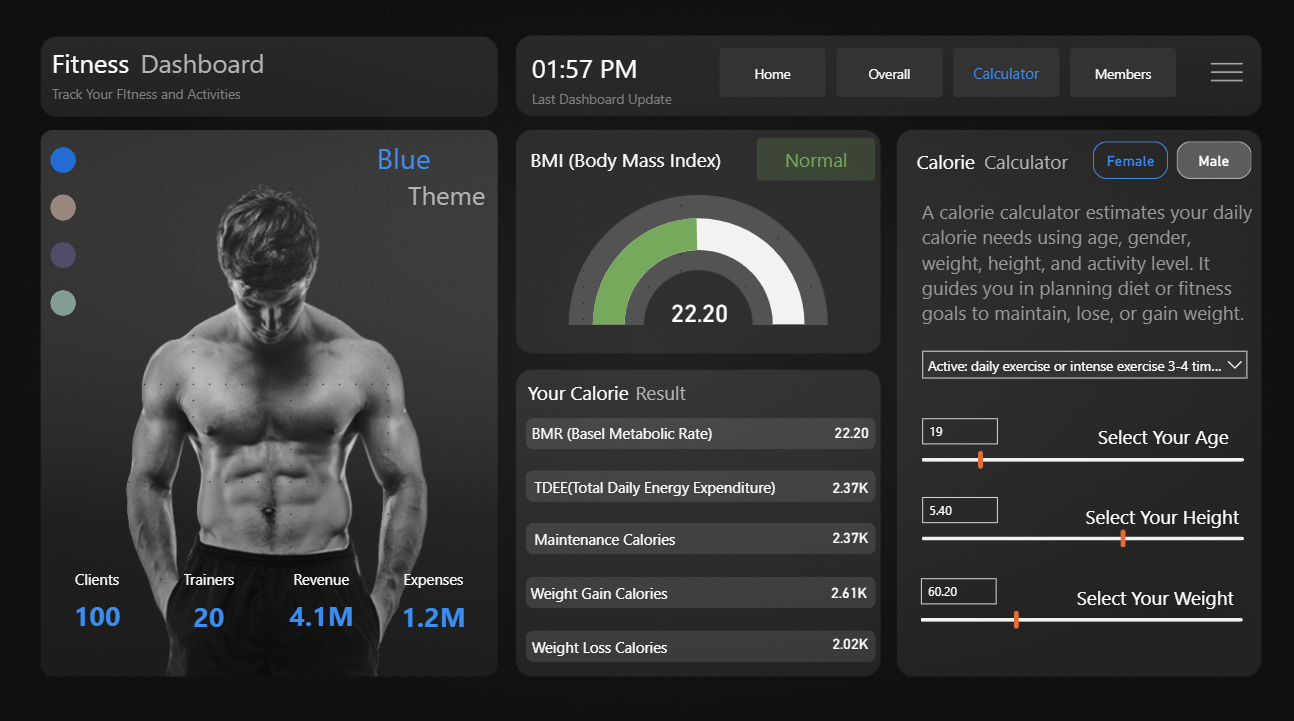

The dashboard page shown, as its layout file describes it:
{"tool":"powerbi","page":{"name":"Calculator","canvas":[1280,720],"ordinal":2},"visuals":[{"type":"slicer","fields":{"Values":["Age_Slider.Age_Slider"]},"box":[897.4,407.8,342.6,77.2],"z":0},{"type":"slicer","fields":{"Values":["Height_Slider.Height_Slider"]},"box":[897.4,485.2,342.6,79.6],"z":1000},{"type":"slicer","fields":{"Values":["Weight_Slider.Weight_Slider"]},"box":[896.2,564.6,342.6,77.2],"z":2000},{"type":"advancedSlicerVisual","fields":{"Values":["Gender_Slider.Category"]},"box":[1073.5,140,166,47.1],"z":3000},{"type":"slicer","fields":{"Values":["Slider_Activity.Category"]},"box":[899.8,341.4,340.2,67.6],"z":4000},{"type":"shape","box":[53.1,48.3,86.9,38.6],"z":5000},{"type":"shape","box":[139.9,48.3,135.1,38.6],"z":6000},{"type":"shape","box":[904.6,145,66.4,38.6],"z":7000},{"type":"shape","box":[971.2,144.8,135.1,38.6],"z":8000},{"type":"textbox","box":[904.6,196.7,337.8,135.1],"z":9000},{"type":"gauge","fields":{"Y":["_Measures.BMI"]},"box":[581.5,179.8,218.4,187],"z":10000},{"type":"shape","box":[1083.2,416.4,142.4,38.6],"z":11000},{"type":"shape","box":[1071.1,494.8,154.4,38.6],"z":12000},{"type":"shape","box":[1062.7,574.5,160.5,38.6],"z":13000},{"type":"card","fields":{"Values":["_Measures.BMI"]},"box":[652.7,288.3,77.2,51.9],"z":14000},{"type":"shape","box":[524.8,142.4,205.1,38.6],"z":15000},{"type":"shape","box":[746.8,141.2,117,42.2],"z":16000},{"type":"shape","box":[526,412.6,234,38.6],"z":17000},{"type":"card","fields":{"Values":["_Measures.BMI"]},"box":[813.1,418.6,54.3,26.5],"z":18000},{"type":"shape","box":[518.8,417.4,345,31.4],"z":19000},{"type":"shape","box":[522.4,372.8,105,38.6],"z":20000},{"type":"shape","box":[627.3,372.8,135.1,38.6],"z":21000},{"type":"shape","box":[518.8,469.3,345,31.4],"z":22000},{"type":"shape","box":[518.8,521.2,345,31.4],"z":23000},{"type":"shape","box":[518.8,573.1,345,31.4],"z":24000},{"type":"shape","box":[518.8,626.1,345,31.4],"z":25000},{"type":"shape","box":[524.8,569.4,234,38.6],"z":26000},{"type":"shape","box":[528.4,516.4,234,38.6],"z":27000},{"type":"shape","box":[528.4,465.7,260.6,38.6],"z":28000},{"type":"shape","box":[526,622.5,234,38.6],"z":29000},{"type":"card","fields":{"Values":["Measure.TDEE"]},"box":[811.9,472.9,54.3,26.5],"z":30000},{"type":"card","fields":{"Values":["Measure.Moderate Weight Gain Calories"]},"box":[810.7,575.5,54.3,26.5],"z":31000},{"type":"card","fields":{"Values":["Measure.Weight Loss Category"]},"box":[811.9,626.1,54.3,26.5],"z":32000},{"type":"card","fields":{"Values":["Measure.Maintain Calories"]},"box":[811.9,522.4,54.3,26.5],"z":33000},{"type":"image","box":[1169,53.1,83.2,49.5],"z":34000},{"type":"shape","box":[526,53.1,113.4,38.6],"z":35000},{"type":"shape","box":[526,83.2,236.5,38.6],"z":36000},{"type":"pageNavigator","box":[710.6,53.1,452.4,49.5],"z":37000},{"type":"advancedSlicerVisual","fields":{"Values":["ColorCodes.Icon"]},"box":[43.8,138.9,40,190.2],"z":38000},{"type":"cardVisual","fields":{"Data":["_Measures.Clients_Count"]},"box":[43.4,557.4,109.8,79.6],"z":39000},{"type":"cardVisual","fields":{"Data":["Count(Users.Trainer Name)"]},"box":[153,557.6,110,80],"z":40000},{"type":"cardVisual","fields":{"Data":["_Measures.Revenue"]},"box":[263,557.4,111,79.6],"z":41000},{"type":"cardVisual","fields":{"Data":["_Measures.Expenses"]},"box":[374,557.4,109.8,80.8],"z":42000},{"type":"shape","box":[53.1,78.4,236.5,38.6],"z":43000},{"type":"shape","box":[372.9,141.4,113.9,37.5],"z":43001},{"type":"shape","box":[404.2,179,82.6,37.5],"z":43002}]}

Visuals, with their boxes in screenshot pixels (x1, y1, x2, y2), scaled from the page's 1280x720 canvas onto the 1294x721 screenshot:
slicer - Age_Slider.Age_Slider: <box>907,408,1254,486</box>
slicer - Height_Slider.Height_Slider: <box>907,486,1254,566</box>
slicer - Weight_Slider.Weight_Slider: <box>906,565,1252,643</box>
advancedSlicerVisual - Gender_Slider.Category: <box>1085,140,1253,187</box>
slicer - Slider_Activity.Category: <box>910,342,1254,410</box>
shape: <box>54,48,142,87</box>
shape: <box>141,48,278,87</box>
shape: <box>914,145,982,184</box>
shape: <box>982,145,1118,184</box>
textbox: <box>914,197,1256,332</box>
gauge - _Measures.BMI: <box>588,180,809,367</box>
shape: <box>1095,417,1239,456</box>
shape: <box>1083,495,1239,534</box>
shape: <box>1074,575,1237,614</box>
card - _Measures.BMI: <box>660,289,738,341</box>
shape: <box>531,143,738,181</box>
shape: <box>755,141,873,184</box>
shape: <box>532,413,768,452</box>
card - _Measures.BMI: <box>822,419,877,446</box>
shape: <box>524,418,873,449</box>
shape: <box>528,373,634,412</box>
shape: <box>634,373,771,412</box>
shape: <box>524,470,873,501</box>
shape: <box>524,522,873,553</box>
shape: <box>524,574,873,605</box>
shape: <box>524,627,873,658</box>
shape: <box>531,570,767,609</box>
shape: <box>534,517,771,556</box>
shape: <box>534,466,798,505</box>
shape: <box>532,623,768,662</box>
card - Measure.TDEE: <box>821,474,876,500</box>
card - Measure.Moderate Weight Gain Calories: <box>820,576,874,603</box>
card - Measure.Weight Loss Category: <box>821,627,876,654</box>
card - Measure.Maintain Calories: <box>821,523,876,550</box>
image: <box>1182,53,1266,103</box>
shape: <box>532,53,646,92</box>
shape: <box>532,83,771,122</box>
pageNavigator: <box>718,53,1176,103</box>
advancedSlicerVisual - ColorCodes.Icon: <box>44,139,85,330</box>
cardVisual - _Measures.Clients_Count: <box>44,558,155,638</box>
cardVisual - Count(Users.Trainer Name): <box>155,558,266,638</box>
cardVisual - _Measures.Revenue: <box>266,558,378,638</box>
cardVisual - _Measures.Expenses: <box>378,558,489,639</box>
shape: <box>54,79,293,117</box>
shape: <box>377,142,492,179</box>
shape: <box>409,179,492,217</box>
